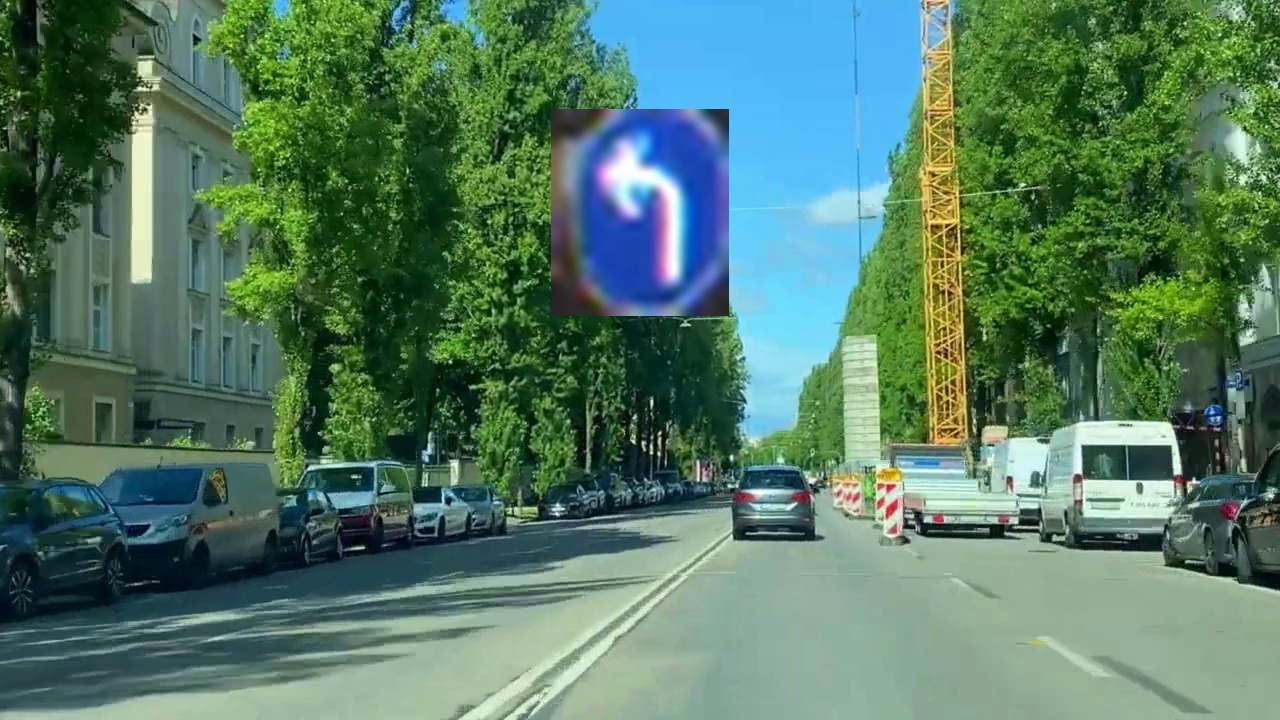Turn left: (551, 109, 729, 316)
